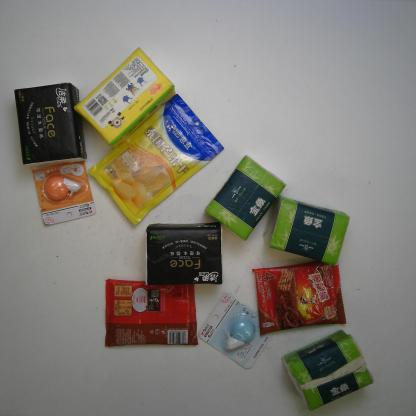Dessert: (252, 261, 348, 338), (104, 276, 199, 349)
Dried Fruit: (85, 90, 222, 225)
Stationery: (198, 294, 274, 369), (31, 159, 96, 229)
Tissue: (74, 48, 178, 146), (284, 329, 373, 411), (206, 153, 287, 241), (14, 79, 87, 168), (262, 194, 350, 266), (142, 221, 225, 287)
